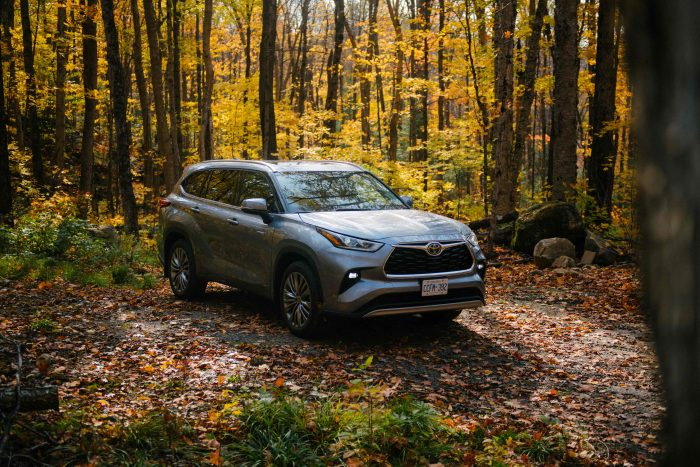car: (156, 159, 487, 339)
